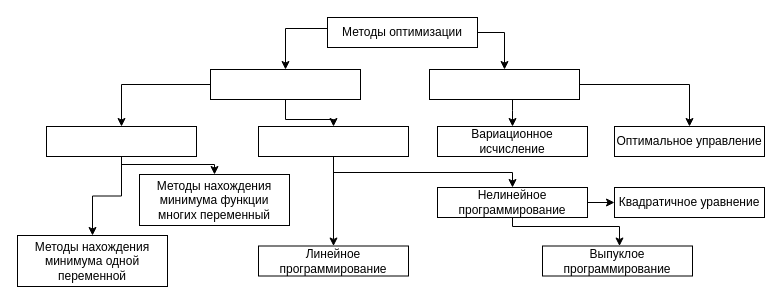
This 782x304 diagram has some shape labels left out. Here are the shapes that lost their labels. From the top down, the centre of each, then its label:
(x=285, y=84): Методы оптимизации функций
(x=504, y=84): Методы оптимизации функционалов
(x=121, y=141): Безуслованя оптимизация
(x=333, y=141): Условная оптимизация
